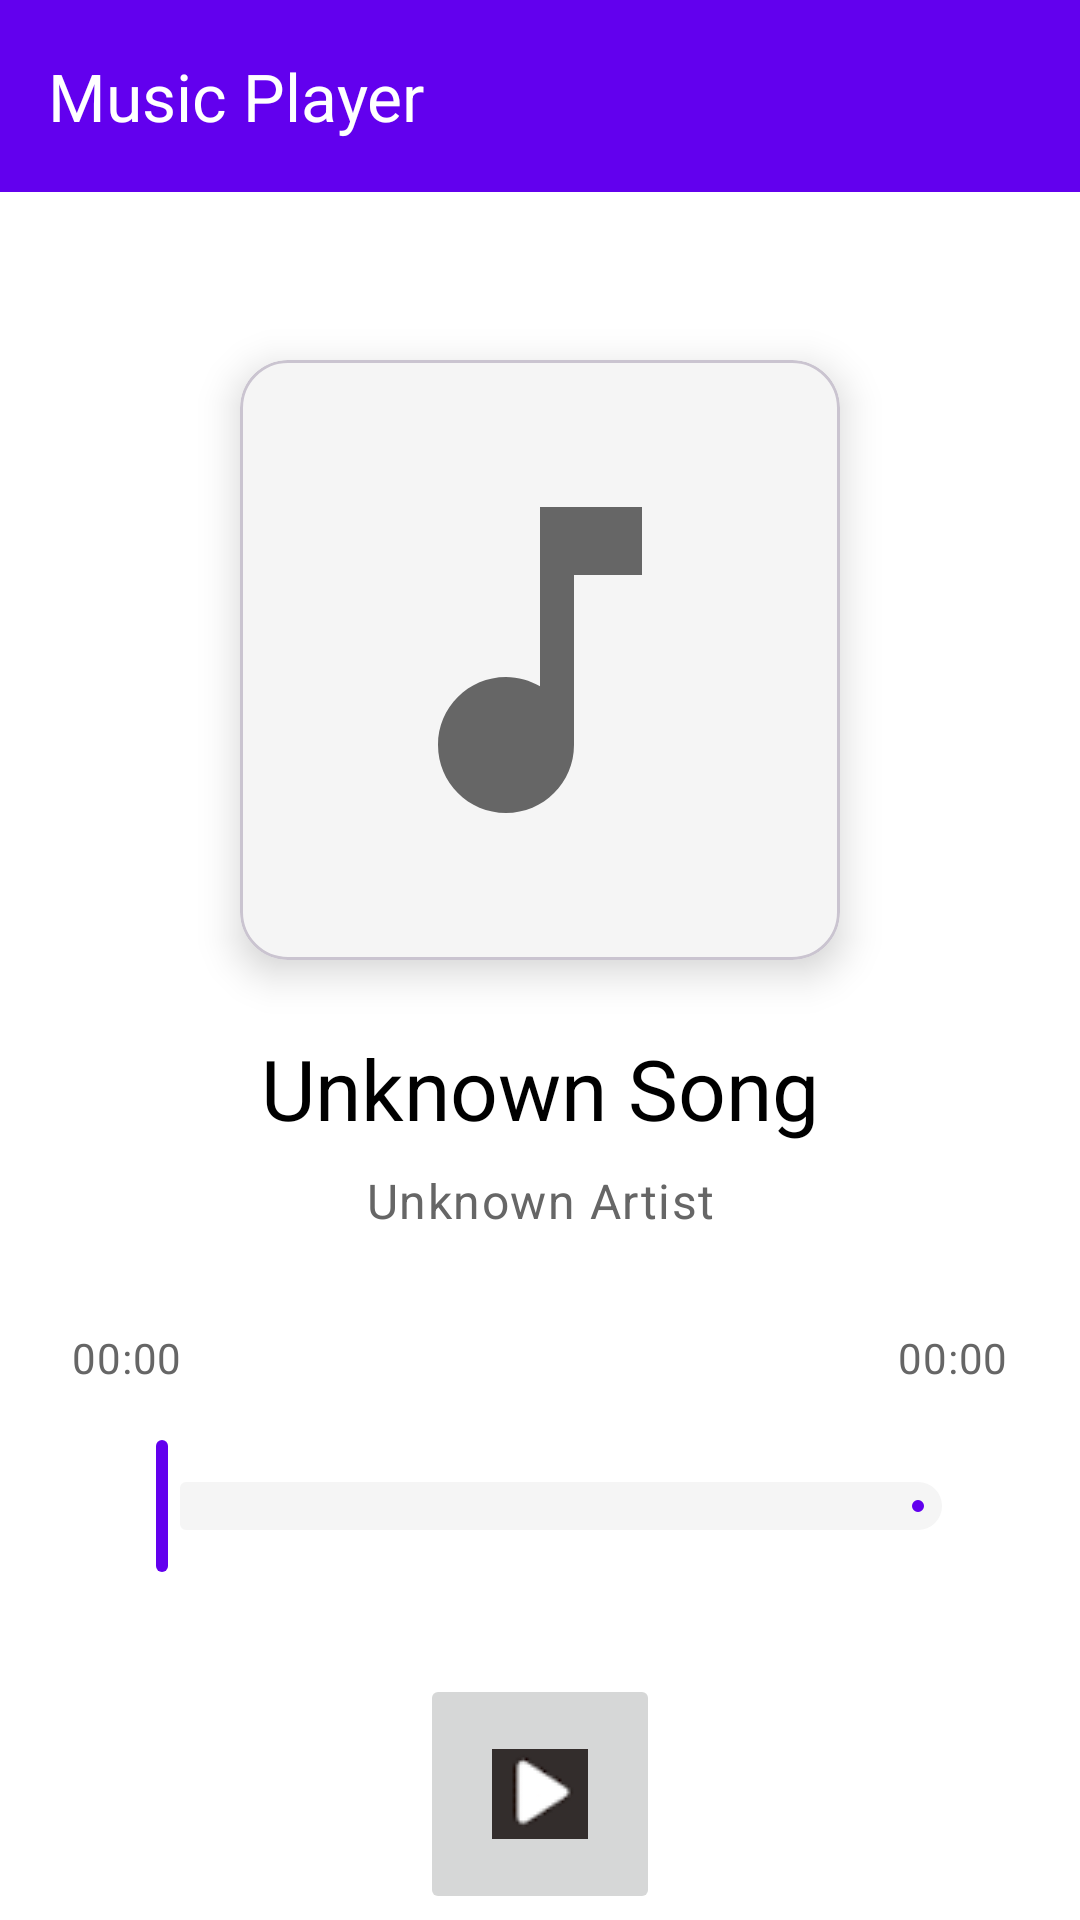

Icon click points for this 1080x1920 phone screenshot, format point (x, y):
Play/Pause: point (540, 1794)
